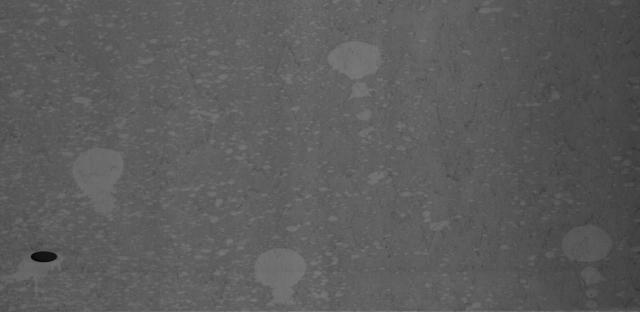punching_hole: (27, 249, 60, 265)
